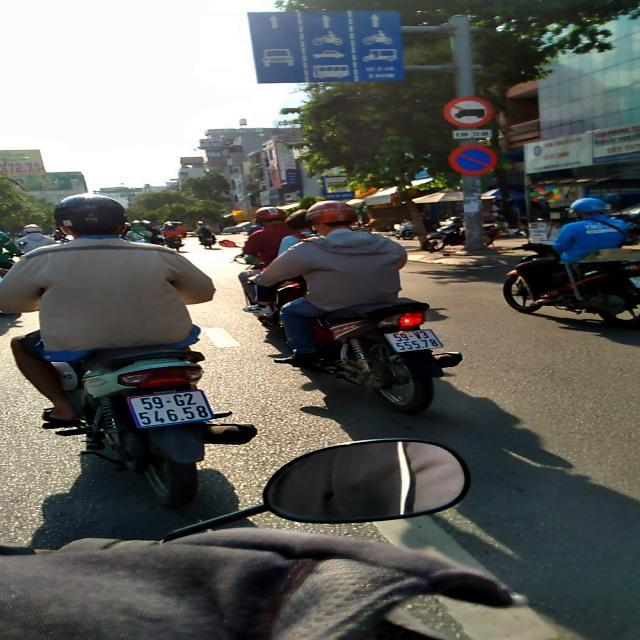Cam do xe: (449, 144, 497, 176)
Cam xe tai: (443, 96, 494, 128)
